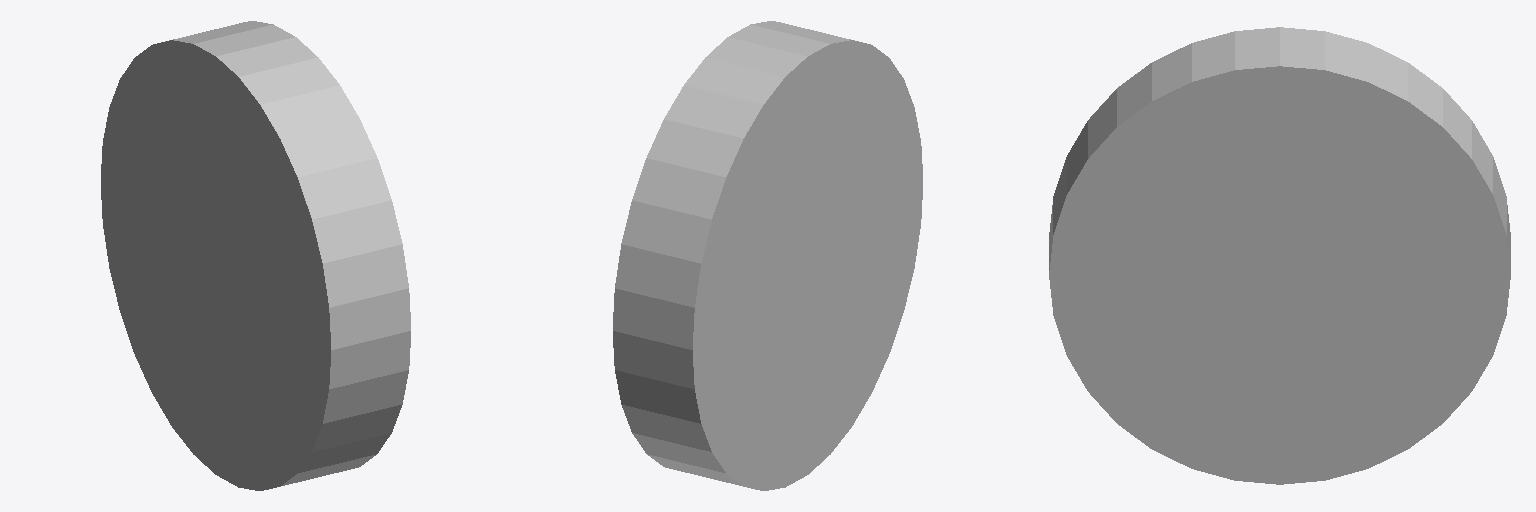
Rendered from Emblem.obj.
The picture shows the model from 3 angles: view 1: azimuth 30°, elevation 25°; view 2: azimuth 150°, elevation 25°; view 3: azimuth 270°, elevation 25°; orthographic projection.
Visible parts, largest first — view 1: Cylinder; view 2: Cylinder; view 3: Cylinder.
Boxes of the visible parts, x1=… form: Cylinder: x1=101, y1=21, x2=410, y2=490; Cylinder: x1=613, y1=21, x2=922, y2=490; Cylinder: x1=1049, y1=27, x2=1510, y2=484.
Size of the model in its own units: 0.4 by 2 by 2.